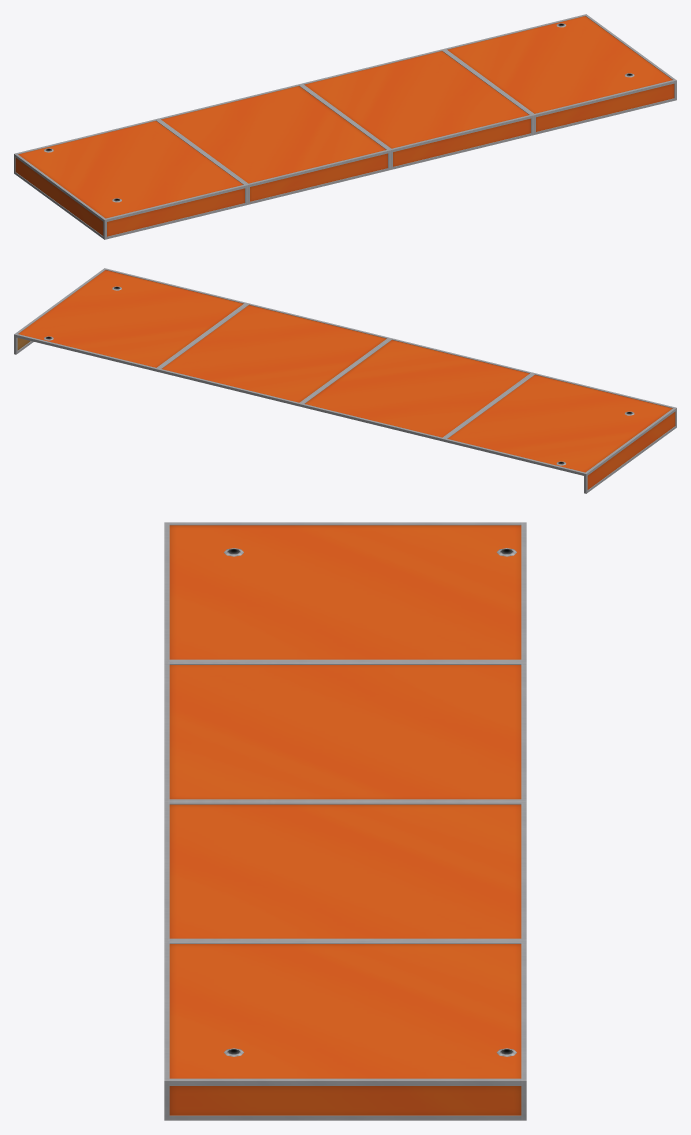
Rendered from jsf_4P_s04_c01_t01_DX.fbx.
3 renders of one model, top to bottom at view 1: azimuth 30°, elevation 25°; view 2: azimuth 150°, elevation 25°; view 3: azimuth 270°, elevation 25°, orthographic. The views are drawn at different scales.
Visible parts, largest first — view 1: jsf_4P_s04_c01_t01_DX; view 2: jsf_4P_s04_c01_t01_DX; view 3: jsf_4P_s04_c01_t01_DX.
Boxes of the visible parts, box(x1,y1,x2,y2) form: jsf_4P_s04_c01_t01_DX: box(14, 14, 676, 239); jsf_4P_s04_c01_t01_DX: box(14, 268, 676, 493); jsf_4P_s04_c01_t01_DX: box(164, 522, 526, 1120).
Bounding box in the file's own units: 378 × 12.99 × 104.
